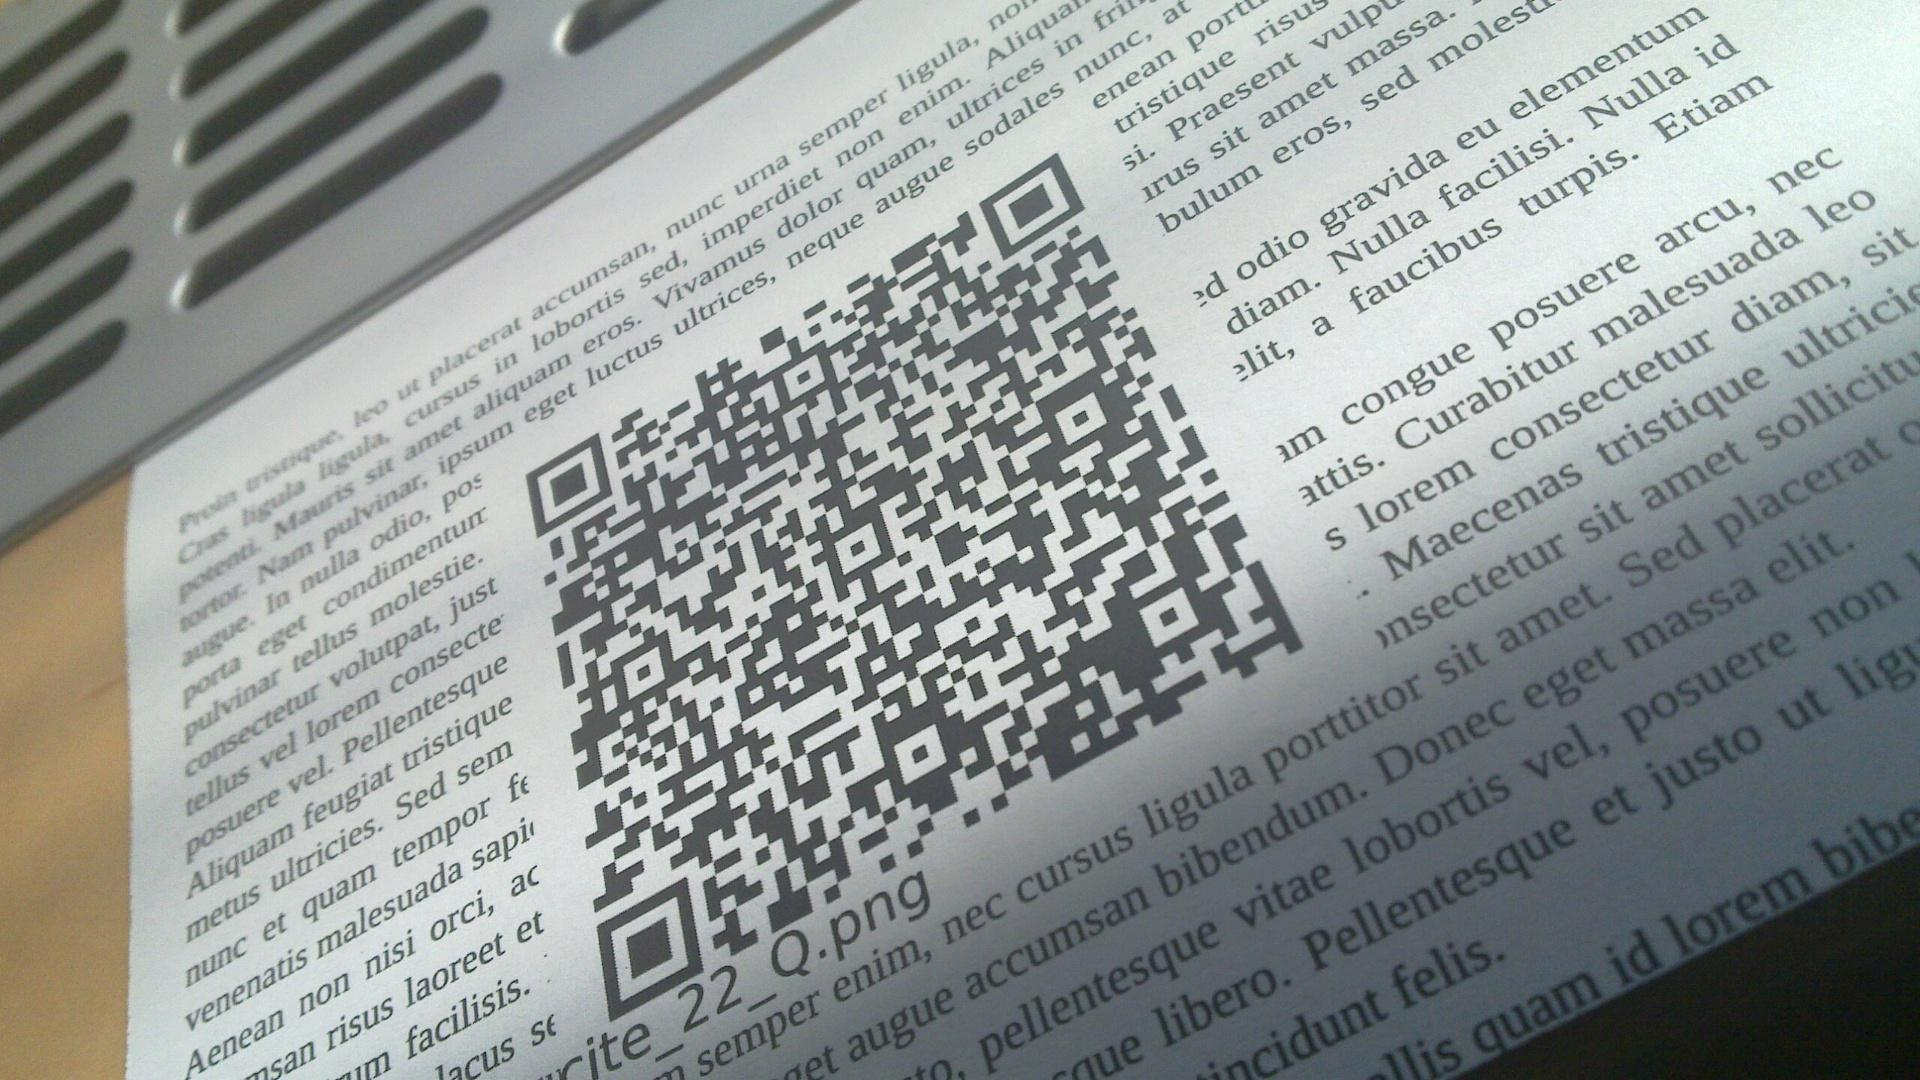Finder pattern: (592, 887, 703, 1014), (976, 160, 1087, 255), (520, 443, 609, 533)
